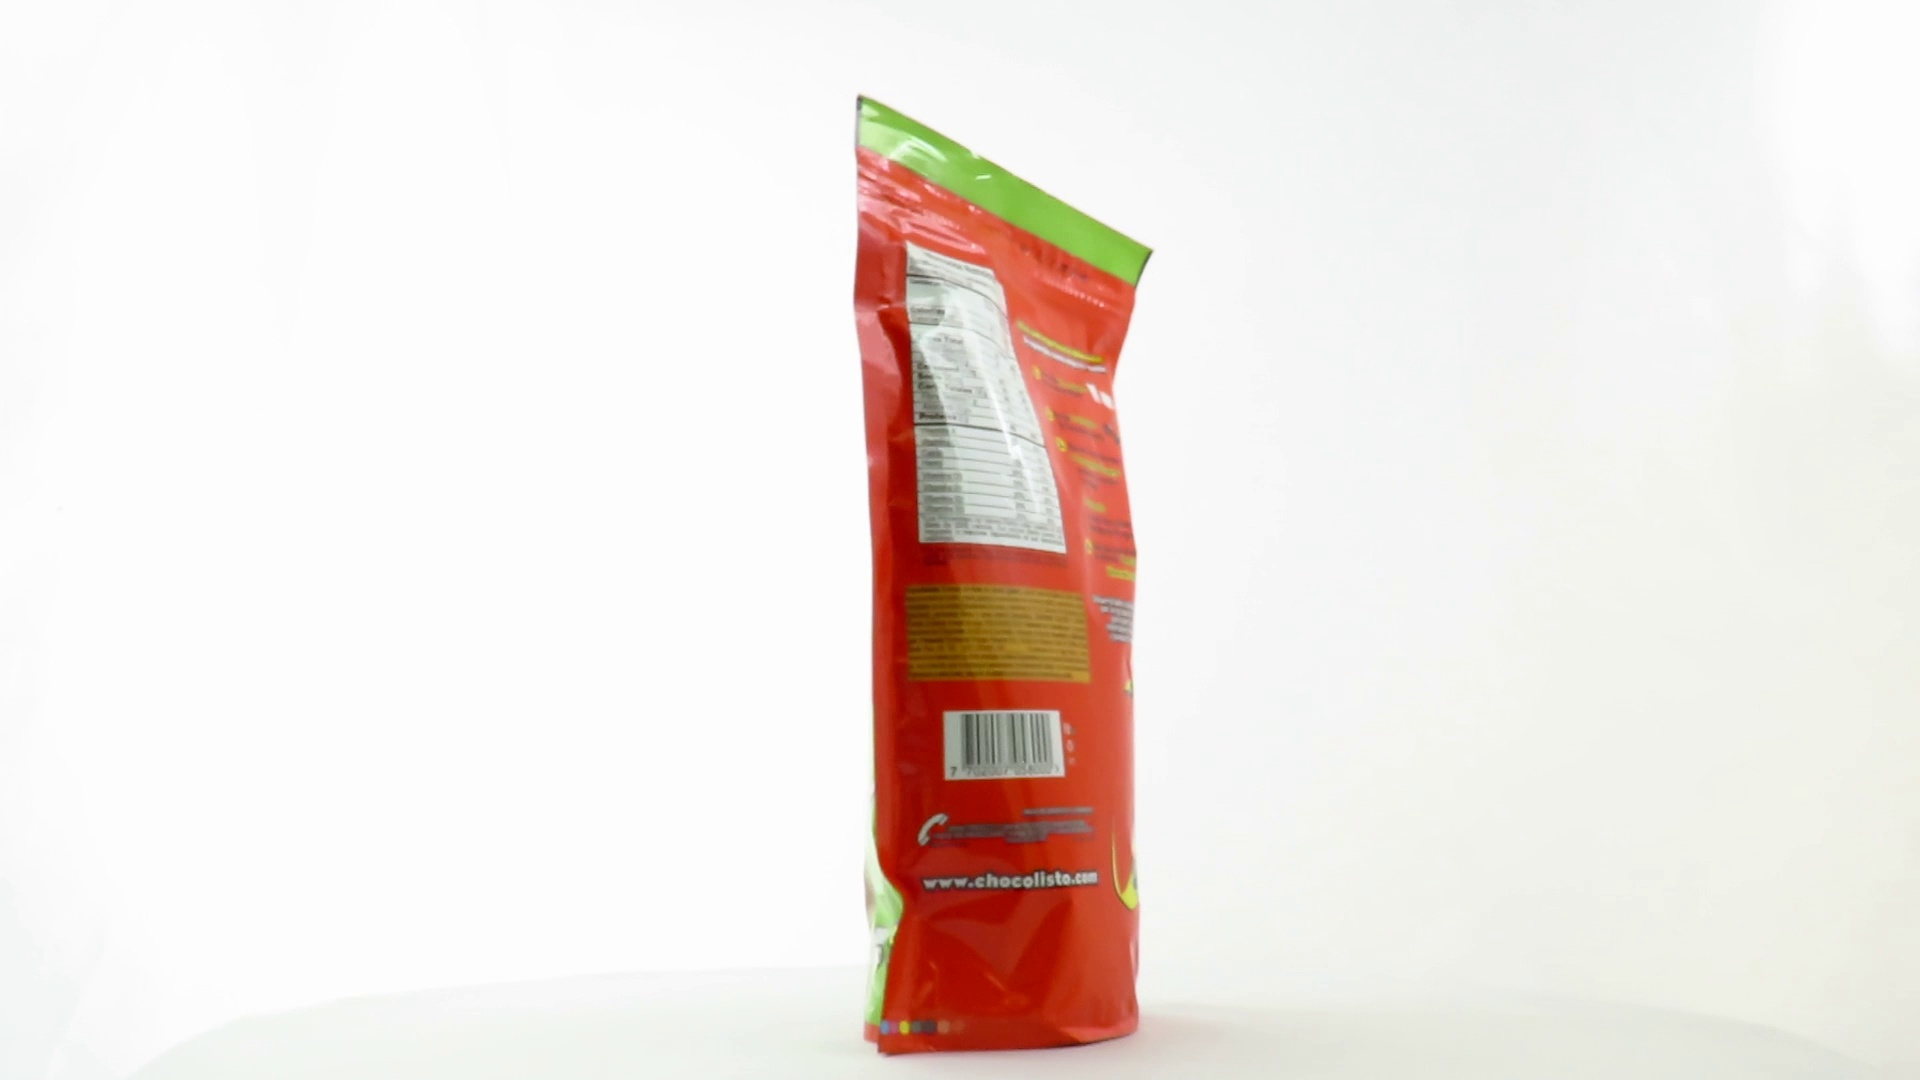COL0170102DYP50000: (848, 88, 1160, 1064)
